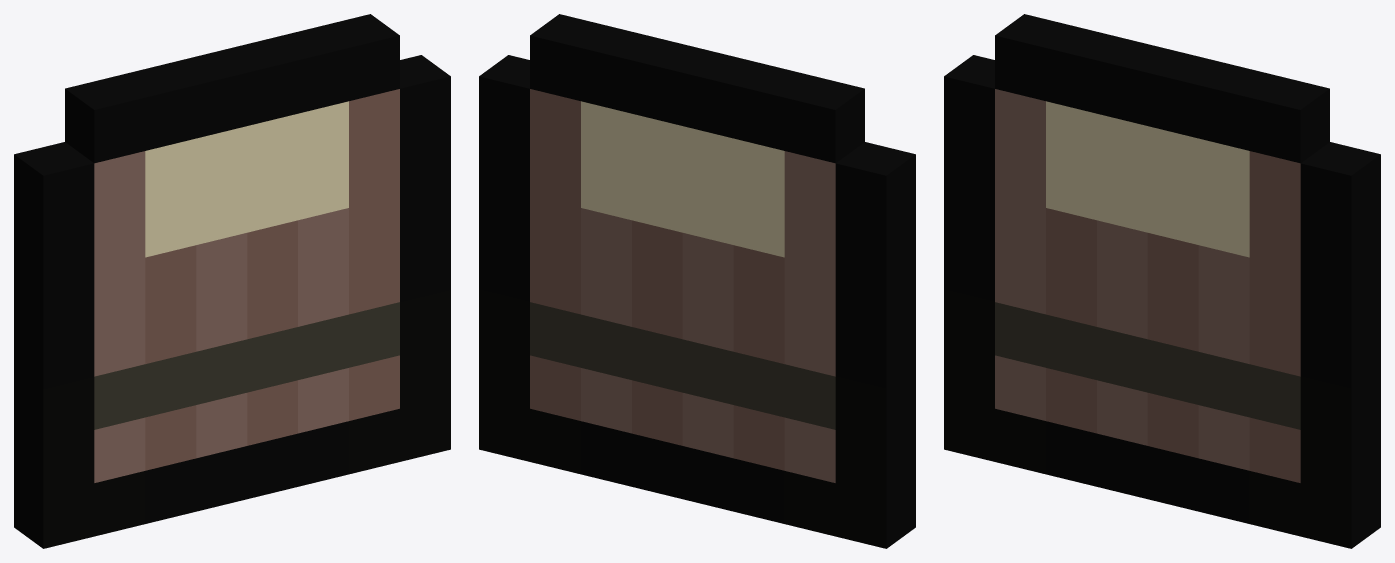
The model's file is Sheep's Milk.glb.
3 renders of one model, left to right at view 1: azimuth 30°, elevation 25°; view 2: azimuth 150°, elevation 25°; view 3: azimuth 330°, elevation 25°, orthographic.
Parts seen in each view (by area): view 1: generated(Clone); view 2: generated(Clone); view 3: generated(Clone).
Boxes of the visible parts, x1,y1,x2,y2 form: generated(Clone): [14, 14, 450, 548]; generated(Clone): [479, 14, 915, 548]; generated(Clone): [944, 14, 1380, 548].
Bounding box in the file's own units: 8 × 8 × 1.
1 material, 1 textured.
